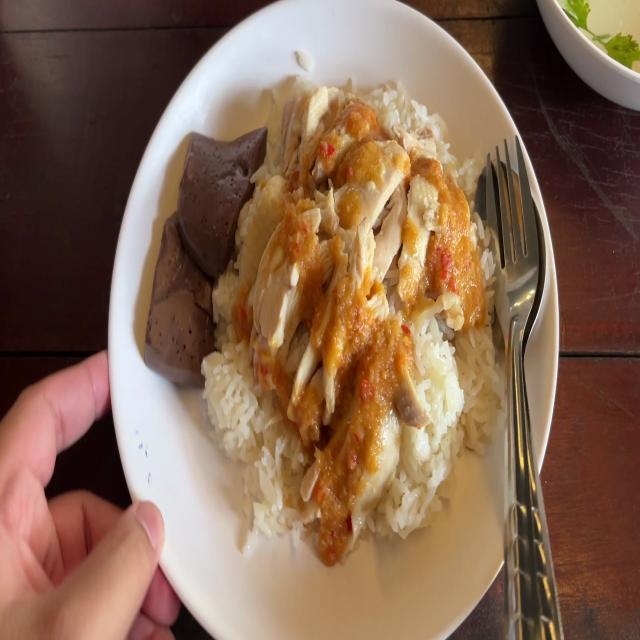chicken_rice: (248, 96, 441, 490)
noodle: (143, 212, 215, 389), (182, 118, 258, 280)
